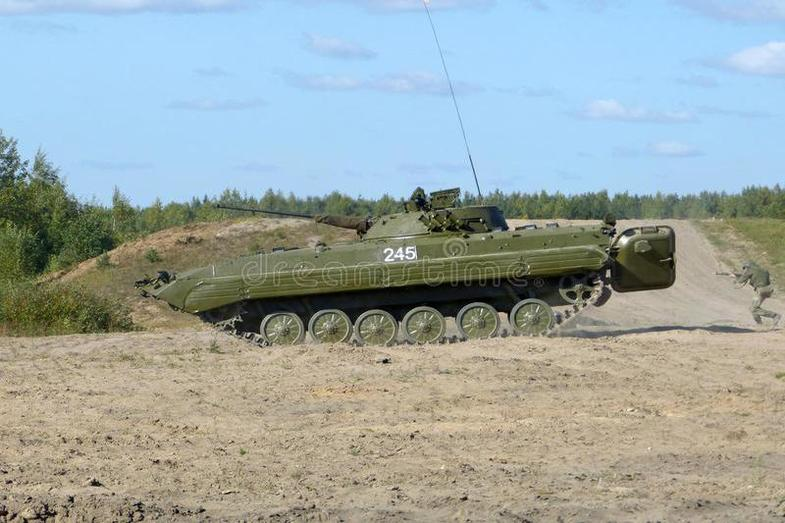bmp: (144, 201, 604, 332)
